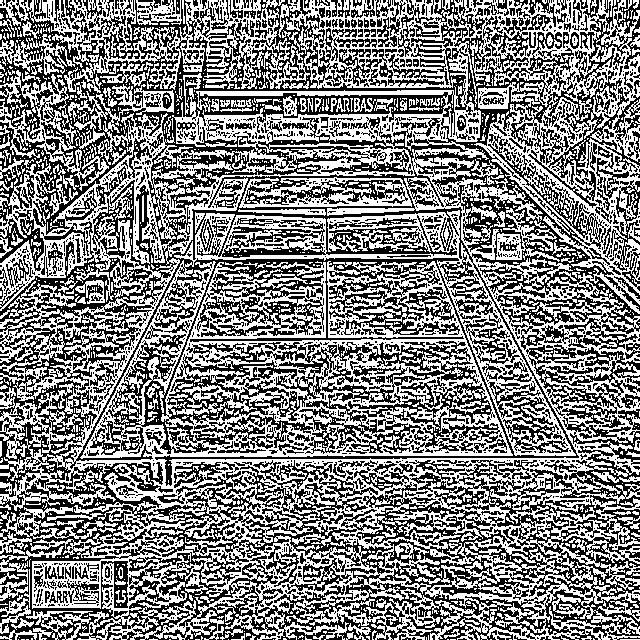left side: (401, 176, 577, 456), (78, 176, 249, 459)
player: (140, 354, 174, 506), (403, 121, 415, 176)
